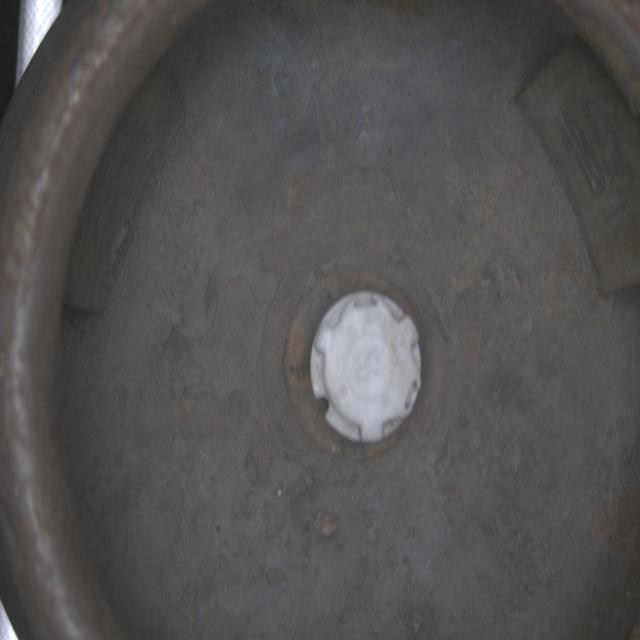Cap: (306, 287, 427, 446)
